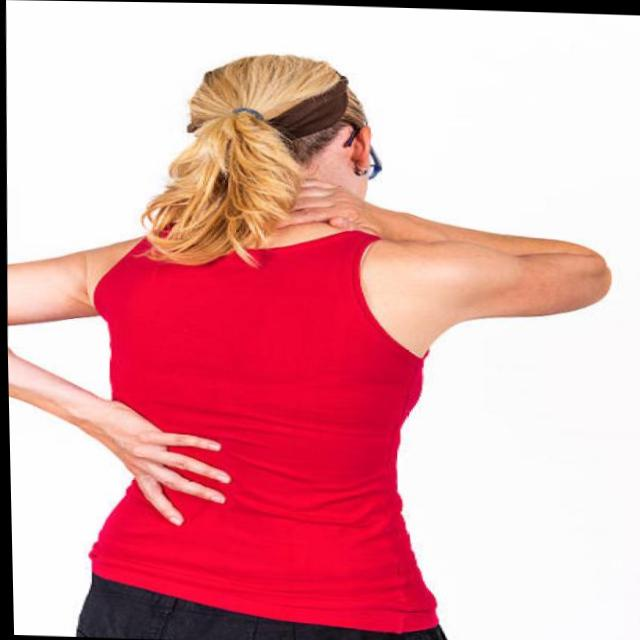no helmet: (173, 52, 365, 197)
